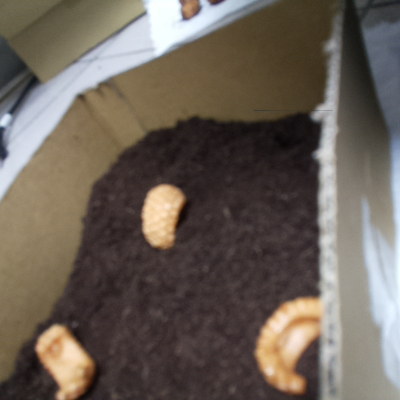eggs: (246, 288, 332, 394), (31, 318, 101, 400), (139, 181, 191, 254)
